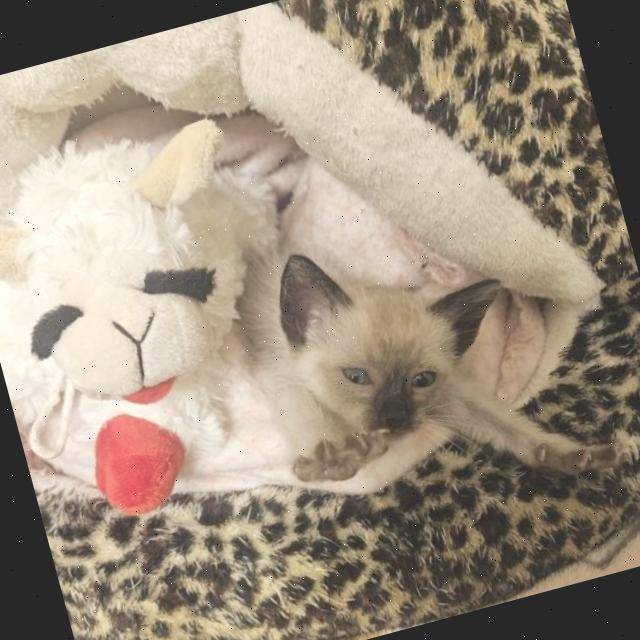siamese_cat: (246, 198, 540, 472)
